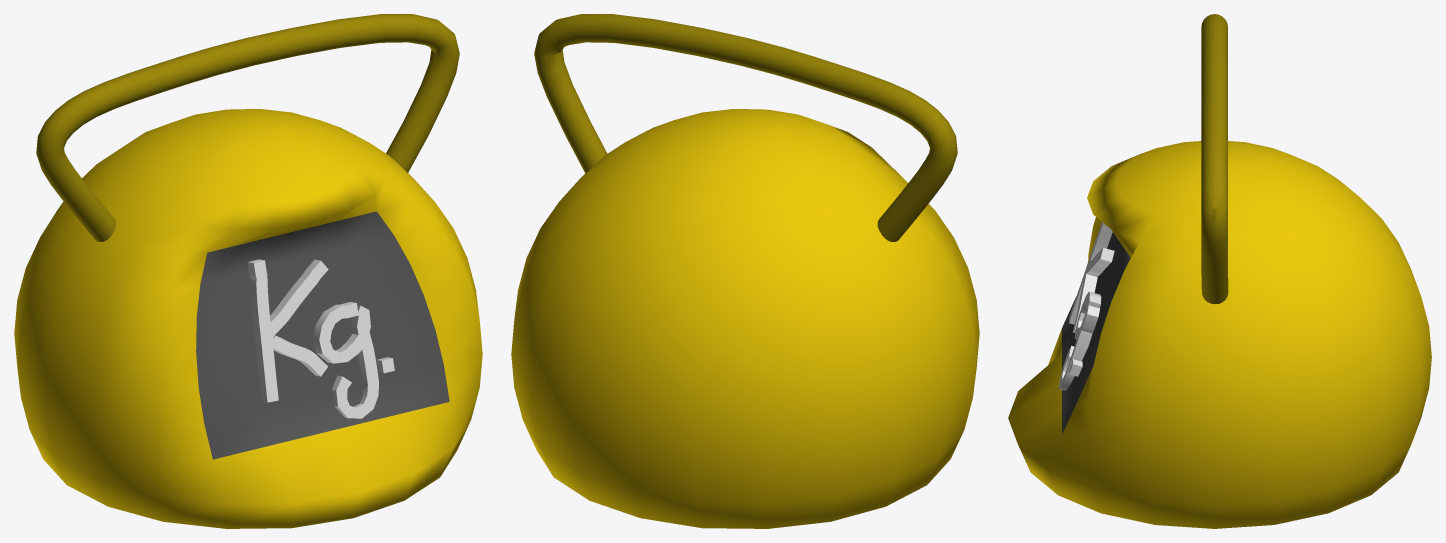
File: Masa2.fbx
3 renders of one model, left to right at view 1: azimuth 30°, elevation 25°; view 2: azimuth 150°, elevation 25°; view 3: azimuth 270°, elevation 25°, orthographic. The views are drawn at different scales.
Parts seen in each view (by area): view 1: pasted__pSphere1, pasted__pCylinder1, pasted__pCube3, pasted__pCube1, pasted__pCube2; view 2: pasted__pSphere1, pasted__pCylinder1; view 3: pasted__pSphere1, pasted__pCylinder1, pasted__pCube3, pasted__pCube2, pasted__pCube1.
Part boxes in pixels (x1,y1,x2,y2): pasted__pSphere1: (14,109,482,528); pasted__pCylinder1: (36,14,459,241); pasted__pCube3: (313,302,378,418); pasted__pCube1: (247,259,278,402); pasted__pCube2: (264,259,328,376); pasted__pSphere1: (511,109,979,528); pasted__pCylinder1: (534,14,957,241); pasted__pSphere1: (1008,141,1431,528); pasted__pCylinder1: (1201,14,1228,304); pasted__pCube3: (1059,291,1101,390); pasted__pCube2: (1072,248,1114,332); pasted__pCube1: (1069,222,1112,324).
Bounding box in the file's own units: 2.75 × 2.58 × 2.6.
